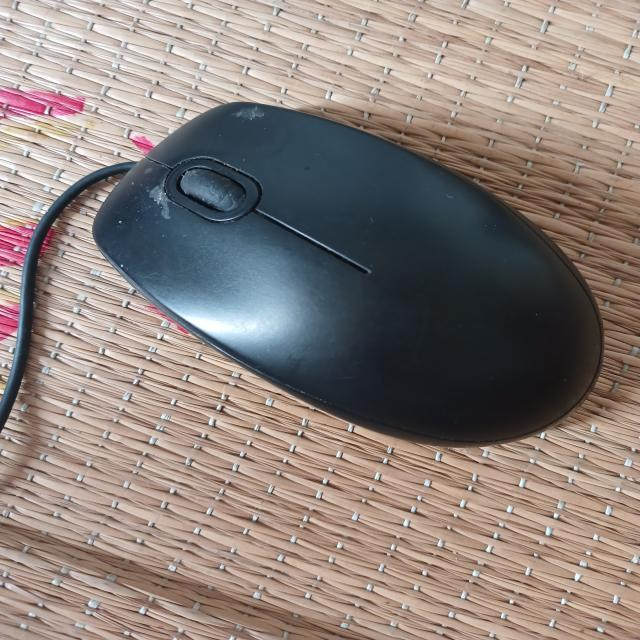mouse: (92, 94, 607, 446)
